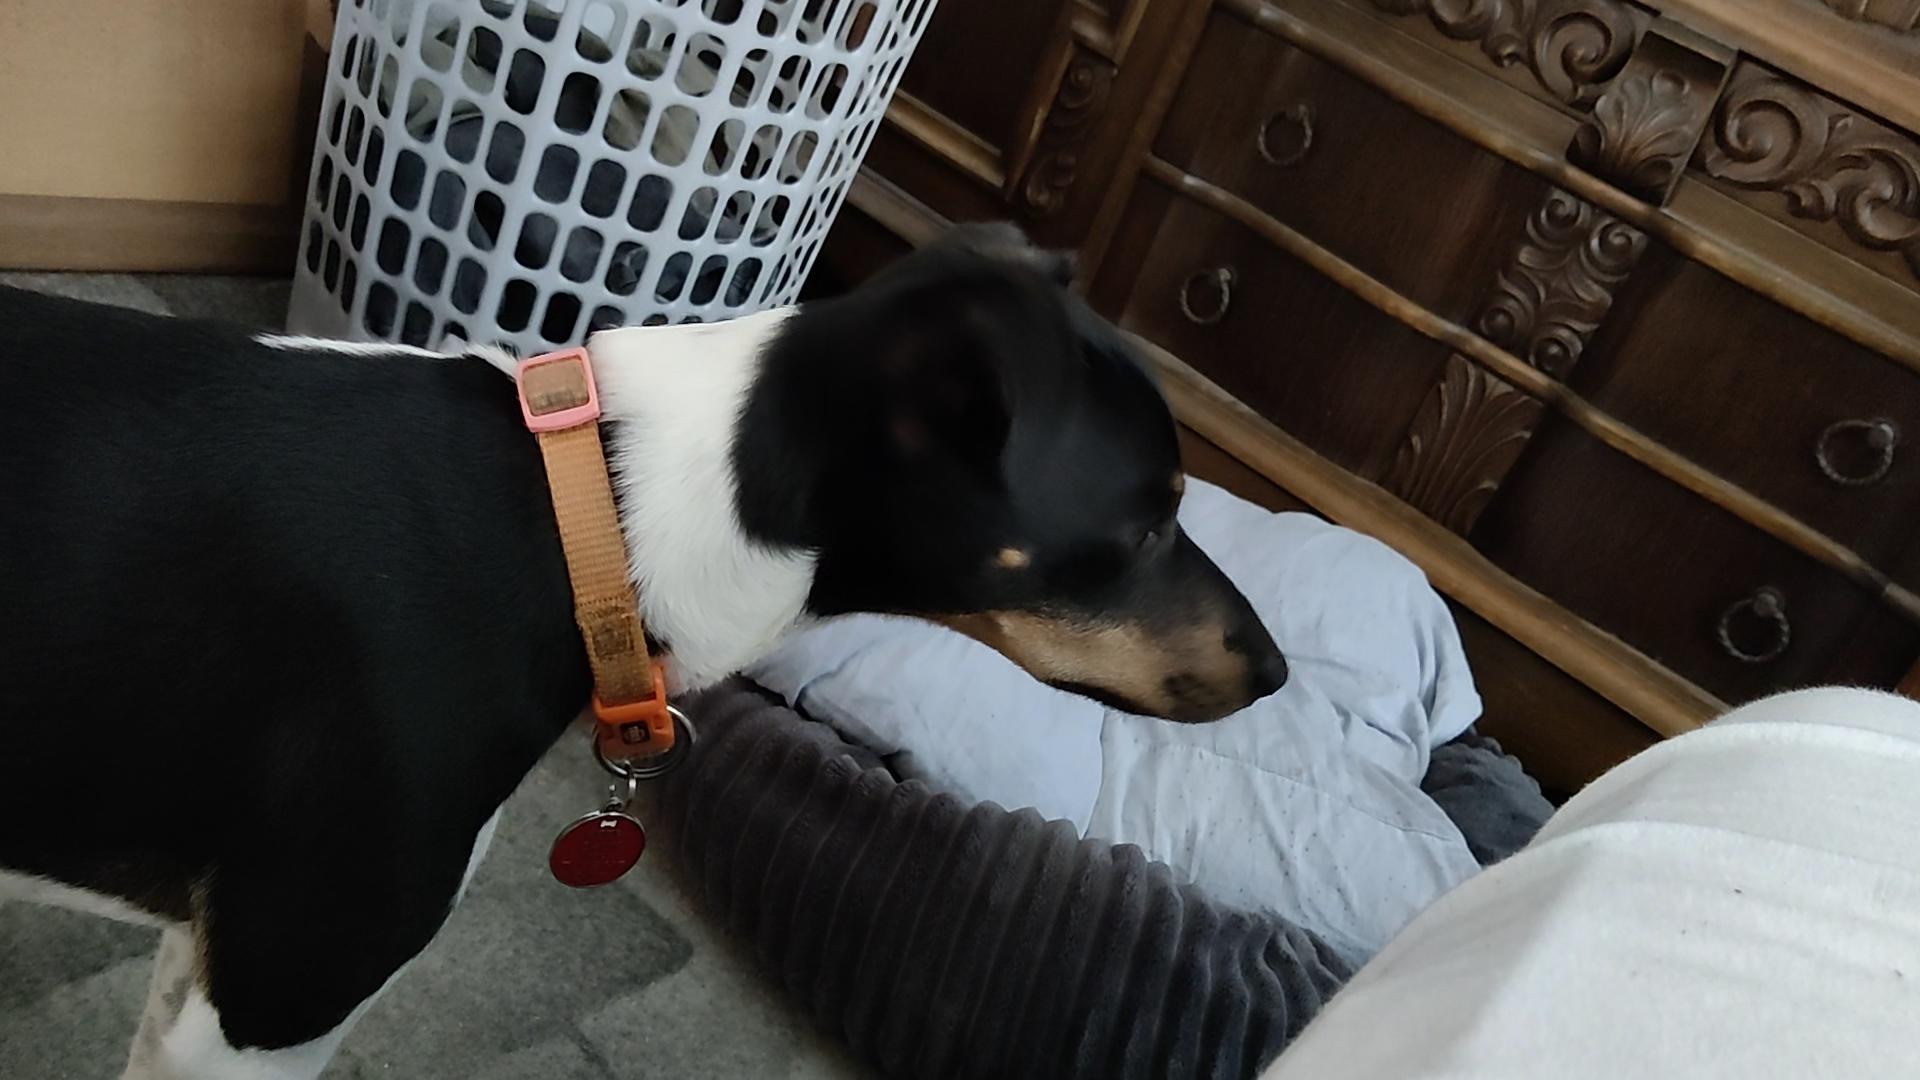Dog: (0, 200, 1304, 1079)
